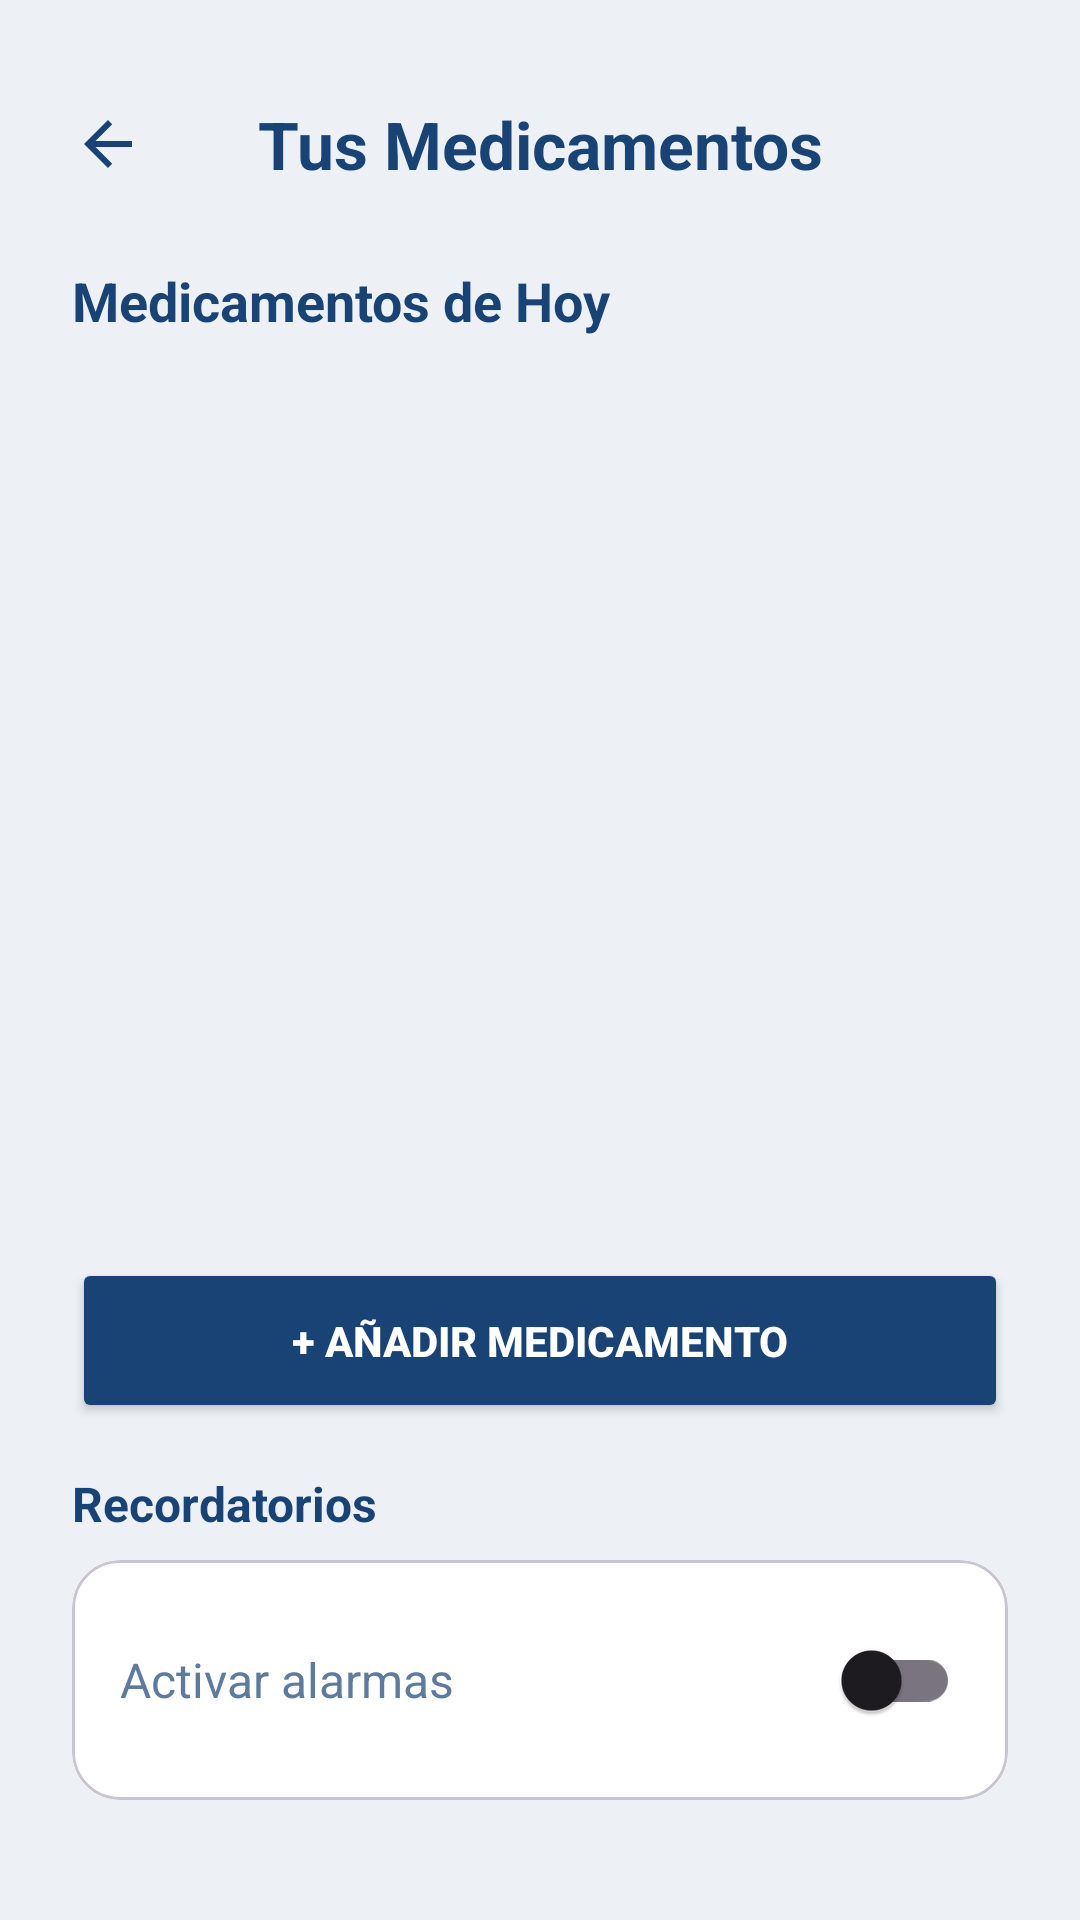

Screen size 1080px x 1920px. Icon name, then its box in pixels as (x1, y1, x2, y2):
flecha regresar: (84, 120, 132, 168)
